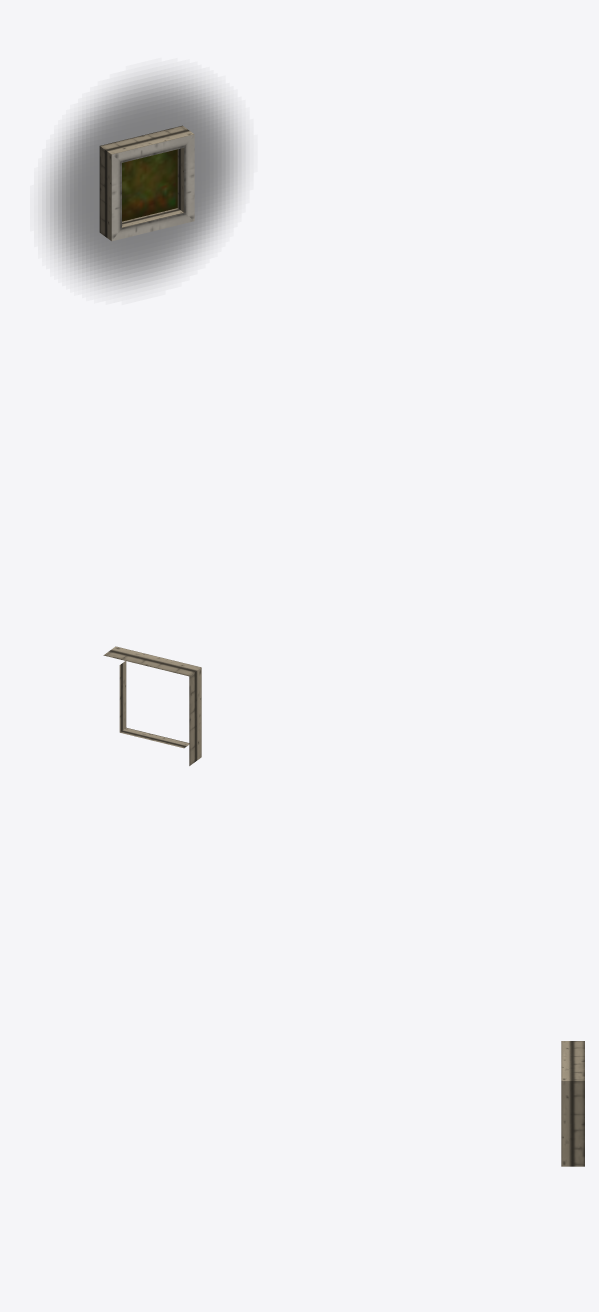
File: prop_tree_small_brickbox_ur.glb
3 renders of one model, top to bottom at view 1: azimuth 30°, elevation 25°; view 2: azimuth 150°, elevation 25°; view 3: azimuth 270°, elevation 25°, orthographic. The views are drawn at different scales.
Visible parts, largest first — view 1: shadow_small_brickbox_ur, tree_box_planter_bricks_3; view 2: tree_box_planter_bricks_3; view 3: tree_box_planter_bricks_3.
Boxes of the visible parts, box(x1,y1,x2,y2) form: shadow_small_brickbox_ur: box(46, 75, 241, 288); tree_box_planter_bricks_3: box(99, 125, 194, 241); tree_box_planter_bricks_3: box(103, 646, 201, 765); tree_box_planter_bricks_3: box(561, 1041, 584, 1166).
Bounding box in the file's own units: 13.93 × 12.32 × 24.15.
Materials: 4 (4 with a texture image).
